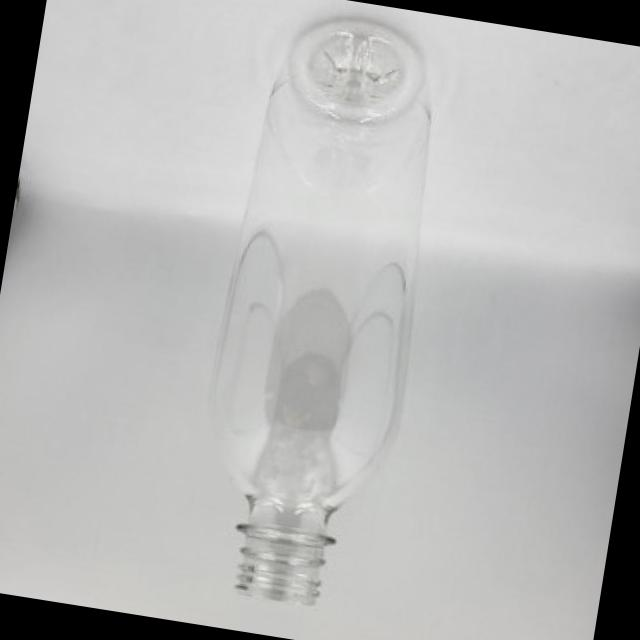plastic_bottle: (182, 7, 456, 620)
